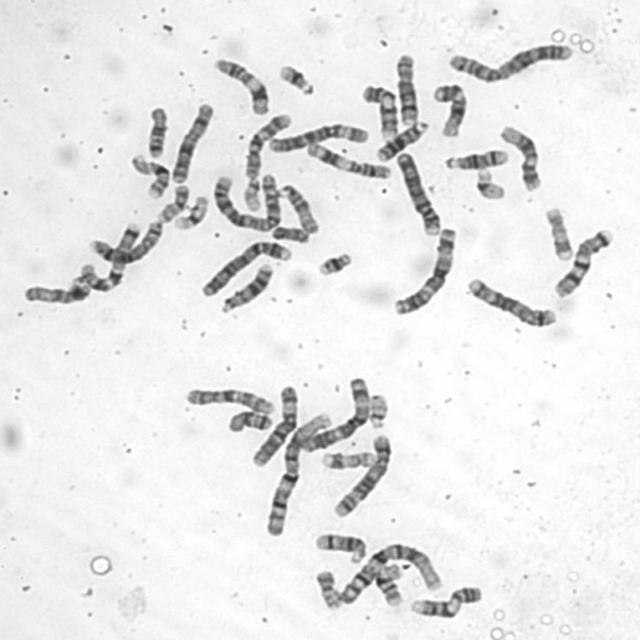A1: (261, 407, 335, 538), (334, 538, 445, 605)
A2: (445, 38, 576, 84), (208, 168, 284, 232)
A3: (389, 222, 459, 316), (299, 372, 373, 452)
B4: (198, 235, 296, 298), (392, 148, 444, 237)
B5: (329, 430, 394, 519), (462, 273, 560, 329)
C10: (241, 108, 295, 180), (180, 382, 278, 417)
C11: (303, 137, 394, 180), (209, 54, 272, 116)
C12: (495, 120, 545, 192), (428, 79, 470, 138)
C6: (247, 378, 301, 469), (265, 118, 372, 154)
C7: (73, 218, 144, 294), (550, 224, 616, 299)
C8: (84, 216, 166, 266), (391, 49, 421, 126)
C9: (406, 580, 485, 620), (356, 80, 400, 140)
D13: (216, 258, 275, 315), (373, 116, 432, 163)
D14: (311, 528, 369, 564), (442, 145, 511, 171)
D15: (274, 179, 321, 235), (19, 276, 93, 306)
E16: (126, 150, 172, 200), (371, 558, 406, 609)
E17: (542, 203, 576, 262), (318, 447, 377, 470)
E18: (143, 101, 170, 160), (223, 406, 276, 434)
F19: (170, 190, 211, 231), (472, 165, 508, 201)
F20: (154, 180, 192, 223), (311, 565, 345, 611)
G21: (273, 59, 318, 96), (314, 248, 354, 278)
G22: (364, 388, 391, 429), (240, 174, 264, 213)
X: (167, 99, 217, 184)
Y: (269, 222, 311, 244)
